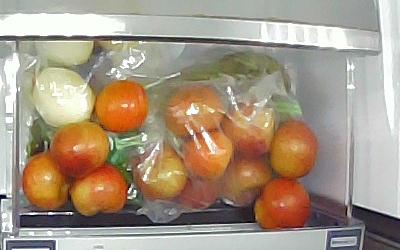prune: (253, 177, 313, 231), (50, 121, 109, 175), (69, 165, 128, 218), (95, 79, 149, 133), (22, 153, 70, 213), (271, 120, 319, 178)
prune_vinyl: (165, 85, 227, 136), (132, 144, 187, 200), (180, 128, 235, 179), (221, 156, 276, 206), (227, 102, 275, 159), (177, 178, 222, 208)
